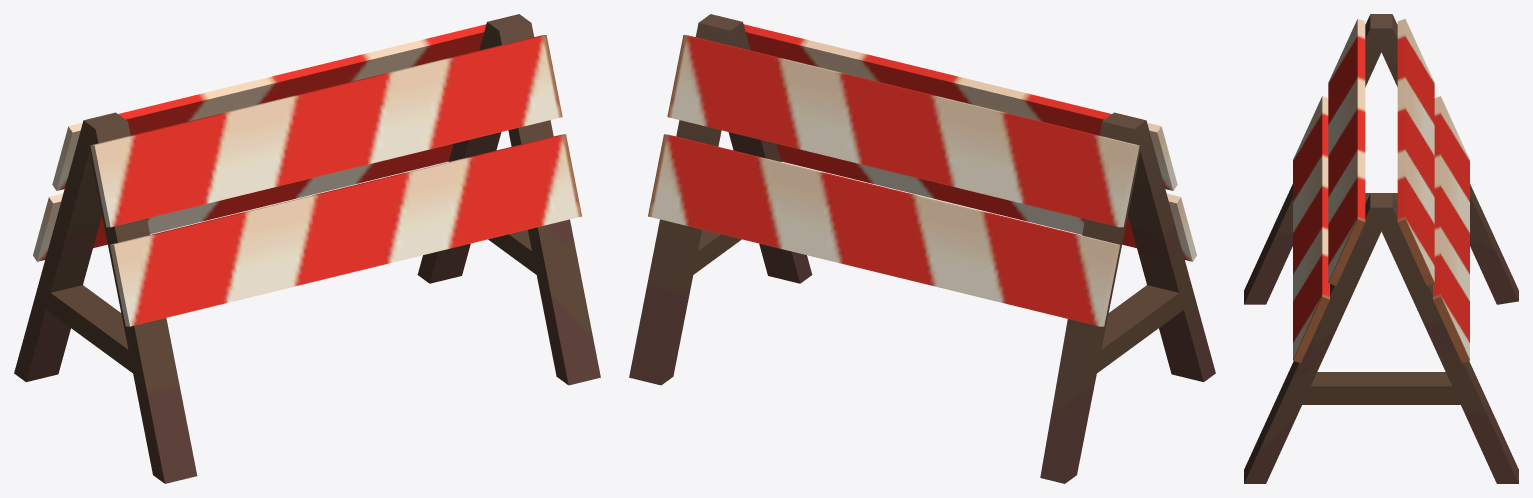
File: Traffic Barrier.fbx
3 views of the same model, side by side, from view 1: azimuth 30°, elevation 25°; view 2: azimuth 150°, elevation 25°; view 3: azimuth 270°, elevation 25° (orthographic). The views are drawn at different scales.
Visible parts, largest first — view 1: Traffic_Barrier; view 2: Traffic_Barrier; view 3: Traffic_Barrier.
Part boxes in pixels (left/top/right/bottom): Traffic_Barrier: left=14, top=14, right=600, bottom=483; Traffic_Barrier: left=629, top=14, right=1215, bottom=483; Traffic_Barrier: left=1244, top=14, right=1518, bottom=483.
Bounding box in the file's own units: 157 × 101 × 90.77.
